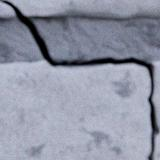broken_brick: (0, 61, 150, 159), (4, 0, 159, 18), (150, 61, 159, 159), (0, 2, 14, 17)
crack: (0, 0, 157, 159)
